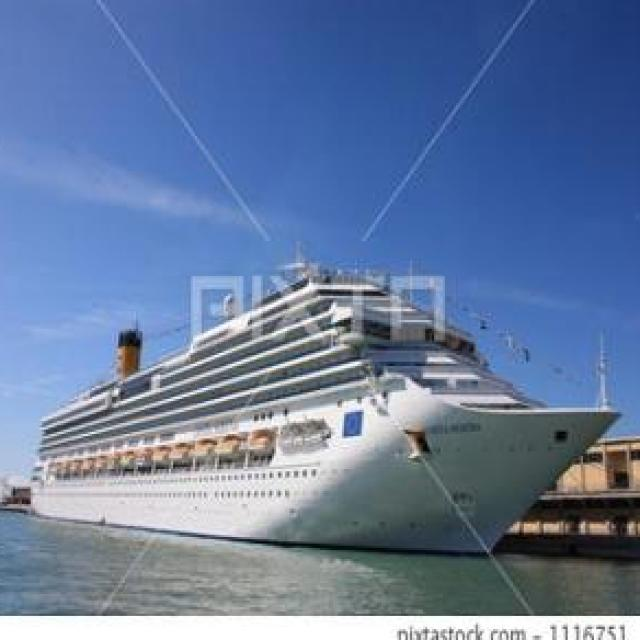passenger ship: (33, 272, 618, 553)
